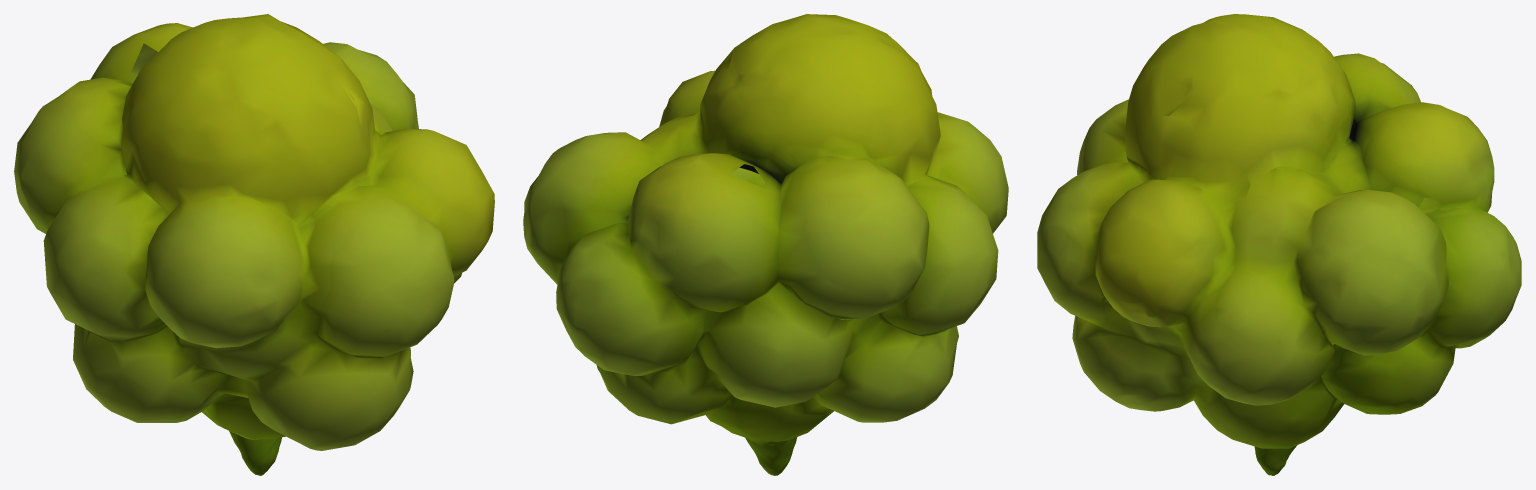
The model's file is 203dbb84-af0a-466d-8e14-074ce5c1fff8-pbr_model.glb.
3 views of the same model, side by side, from view 1: azimuth 30°, elevation 25°; view 2: azimuth 150°, elevation 25°; view 3: azimuth 270°, elevation 25° (orthographic). The views are drawn at different scales.
Parts seen in each view (by area): view 1: tripo_node_203dbb84-af0a-466d-8e14-074ce5c1fff8; view 2: tripo_node_203dbb84-af0a-466d-8e14-074ce5c1fff8; view 3: tripo_node_203dbb84-af0a-466d-8e14-074ce5c1fff8.
Boxes of the visible parts, left/top/right/bottom form: tripo_node_203dbb84-af0a-466d-8e14-074ce5c1fff8: left=14, top=14, right=494, bottom=475; tripo_node_203dbb84-af0a-466d-8e14-074ce5c1fff8: left=523, top=14, right=1008, bottom=475; tripo_node_203dbb84-af0a-466d-8e14-074ce5c1fff8: left=1037, top=14, right=1521, bottom=475.
Size of the model in its own units: 0.9217 by 0.9941 by 1.
1 material, 1 textured.
